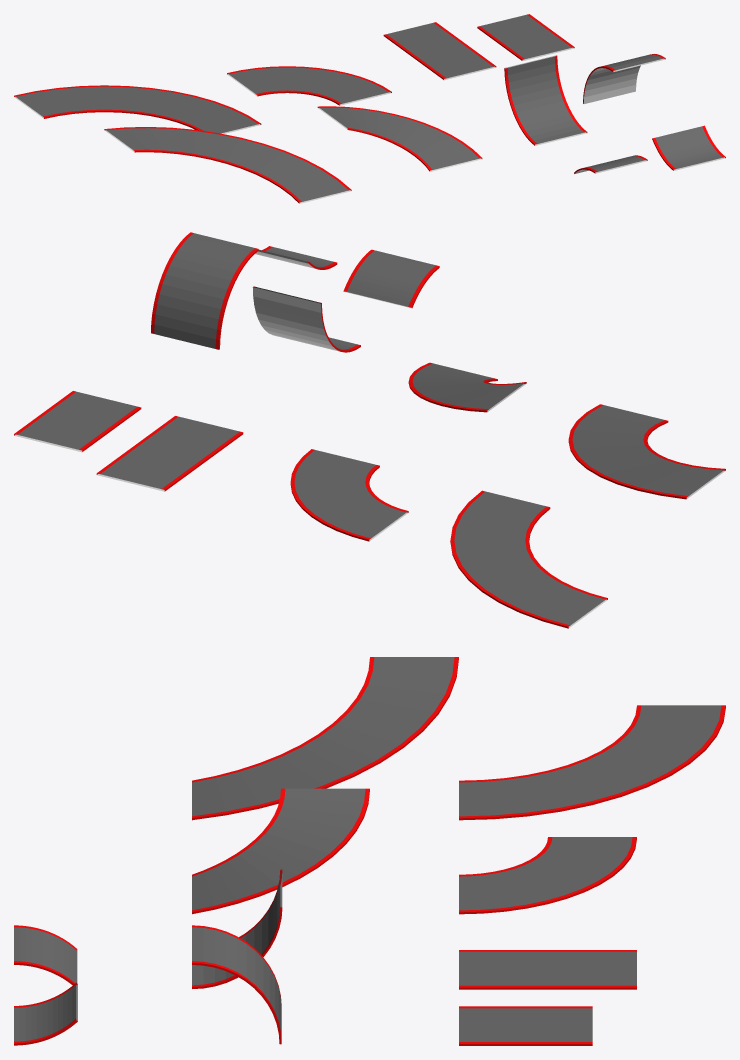
Rendered from RaceTrack.fbx.
The picture shows the model from 3 angles, top to bottom: view 1: azimuth 30°, elevation 25°; view 2: azimuth 150°, elevation 25°; view 3: azimuth 270°, elevation 25°; orthographic projection. The views are drawn at different scales.
Parts seen in each view (by area): view 1: Track_Curved_Ramp_Long, Track_Curved_Long, Track_Ramp_Up_Long, Track_Curved_Ramp_Short, Track_Curved_Short, Track_Main_Long, Track_Main_Short, Track_Ramp_Up_Short, Track_Ramp_Down_Long, Track_Ramp_Down_Short; view 2: Track_Curved_Long, Track_Curved_Ramp_Long, Track_Ramp_Down_Long, Track_Curved_Short, Track_Main_Long, Track_Main_Short, Track_Curved_Ramp_Short, Track_Ramp_Down_Short, Track_Ramp_Up_Long, Track_Ramp_Up_Short; view 3: Track_Curved_Ramp_Long, Track_Curved_Long, Track_Curved_Ramp_Short, Track_Curved_Short, Track_Main_Long, Track_Main_Short, Track_Ramp_Down_Long, Track_Ramp_Up_Short, Track_Ramp_Down_Short, Track_Ramp_Up_Long.
Part boxes in pixels (x1,y1,x2,y2): Track_Curved_Ramp_Long: (104,127,351,203); Track_Curved_Long: (14,85,261,133); Track_Ramp_Up_Long: (504,55,587,145); Track_Curved_Ramp_Short: (317,106,482,171); Track_Curved_Short: (227,66,391,105); Track_Main_Long: (383,22,496,80); Track_Main_Short: (477,14,574,60); Track_Ramp_Up_Short: (652,125,725,170); Track_Ramp_Down_Long: (583,54,665,103); Track_Ramp_Down_Short: (574,155,647,173); Track_Curved_Long: (450,490,607,628); Track_Curved_Ramp_Long: (568,404,725,499); Track_Ramp_Down_Long: (151,232,258,349); Track_Curved_Short: (290,449,408,541); Track_Main_Long: (96,416,243,491); Track_Main_Short: (14,391,141,452); Track_Curved_Ramp_Short: (408,362,526,412); Track_Ramp_Down_Short: (343,249,439,308); Track_Ramp_Up_Long: (252,286,360,352); Track_Ramp_Up_Short: (255,246,337,269); Track_Curved_Ramp_Long: (192,657,458,820); Track_Curved_Long: (459,705,725,820); Track_Curved_Ramp_Short: (192,788,369,914); Track_Curved_Short: (459,837,636,914); Track_Main_Long: (459,950,636,989); Track_Main_Short: (459,1006,592,1045); Track_Ramp_Down_Long: (192,925,281,1044); Track_Ramp_Up_Short: (14,982,77,1045); Track_Ramp_Down_Short: (14,925,77,985); Track_Ramp_Up_Long: (192,869,282,988).
Bounding box in the file's own units: 9008 × 1033 × 8000.
